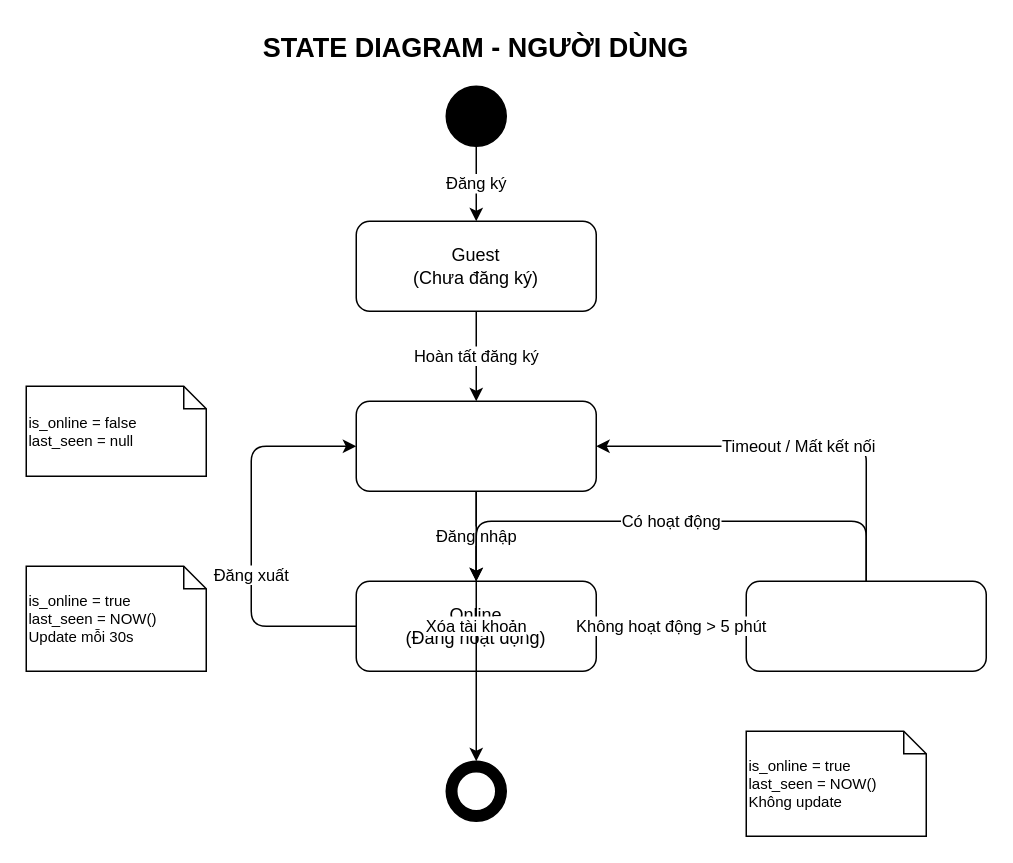
This 1013x863 diagram has some shape labels left out. Each missing label, with the centre of its shape:
Away (Vắng mặt): pixel 865 625
Offline (Đã đăng ký): pixel 475 445
